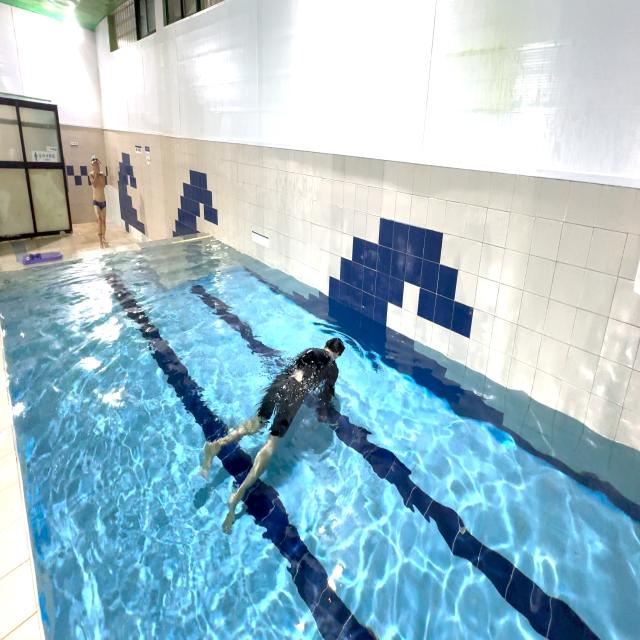Swimming: (201, 323, 349, 533)
